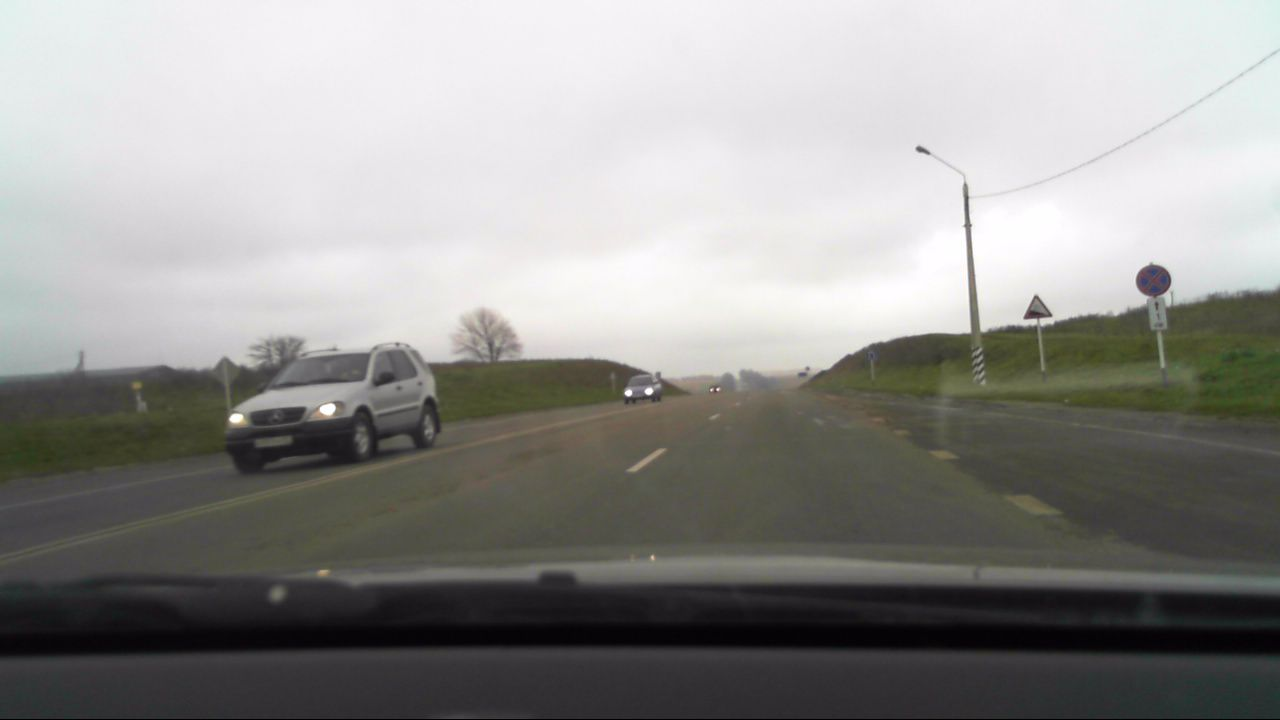No Parking: (1133, 262, 1171, 296)
